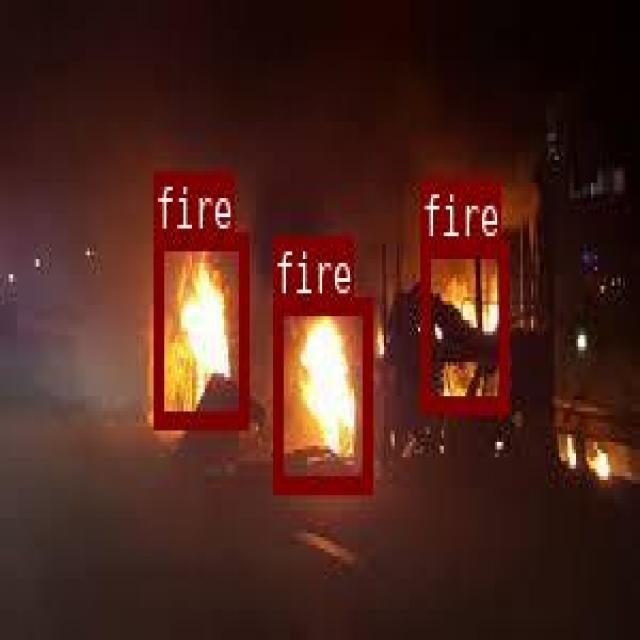fire: (271, 294, 370, 491), (152, 231, 247, 425), (419, 239, 507, 411)
